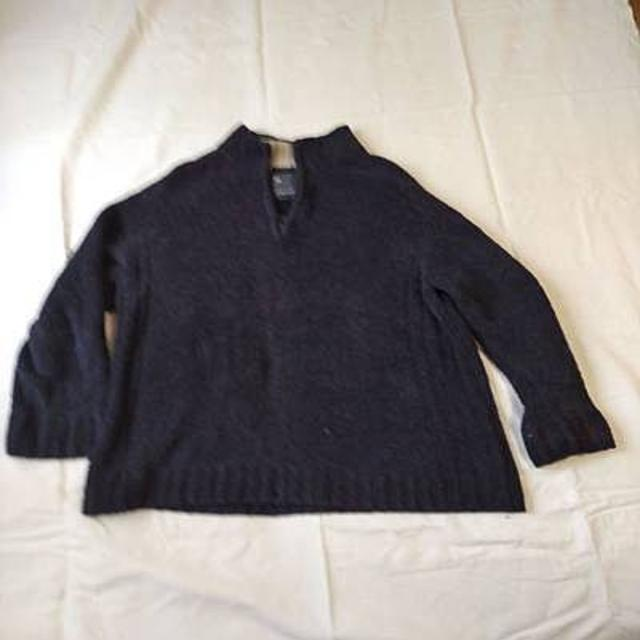SHIRT: (2, 118, 640, 522)
